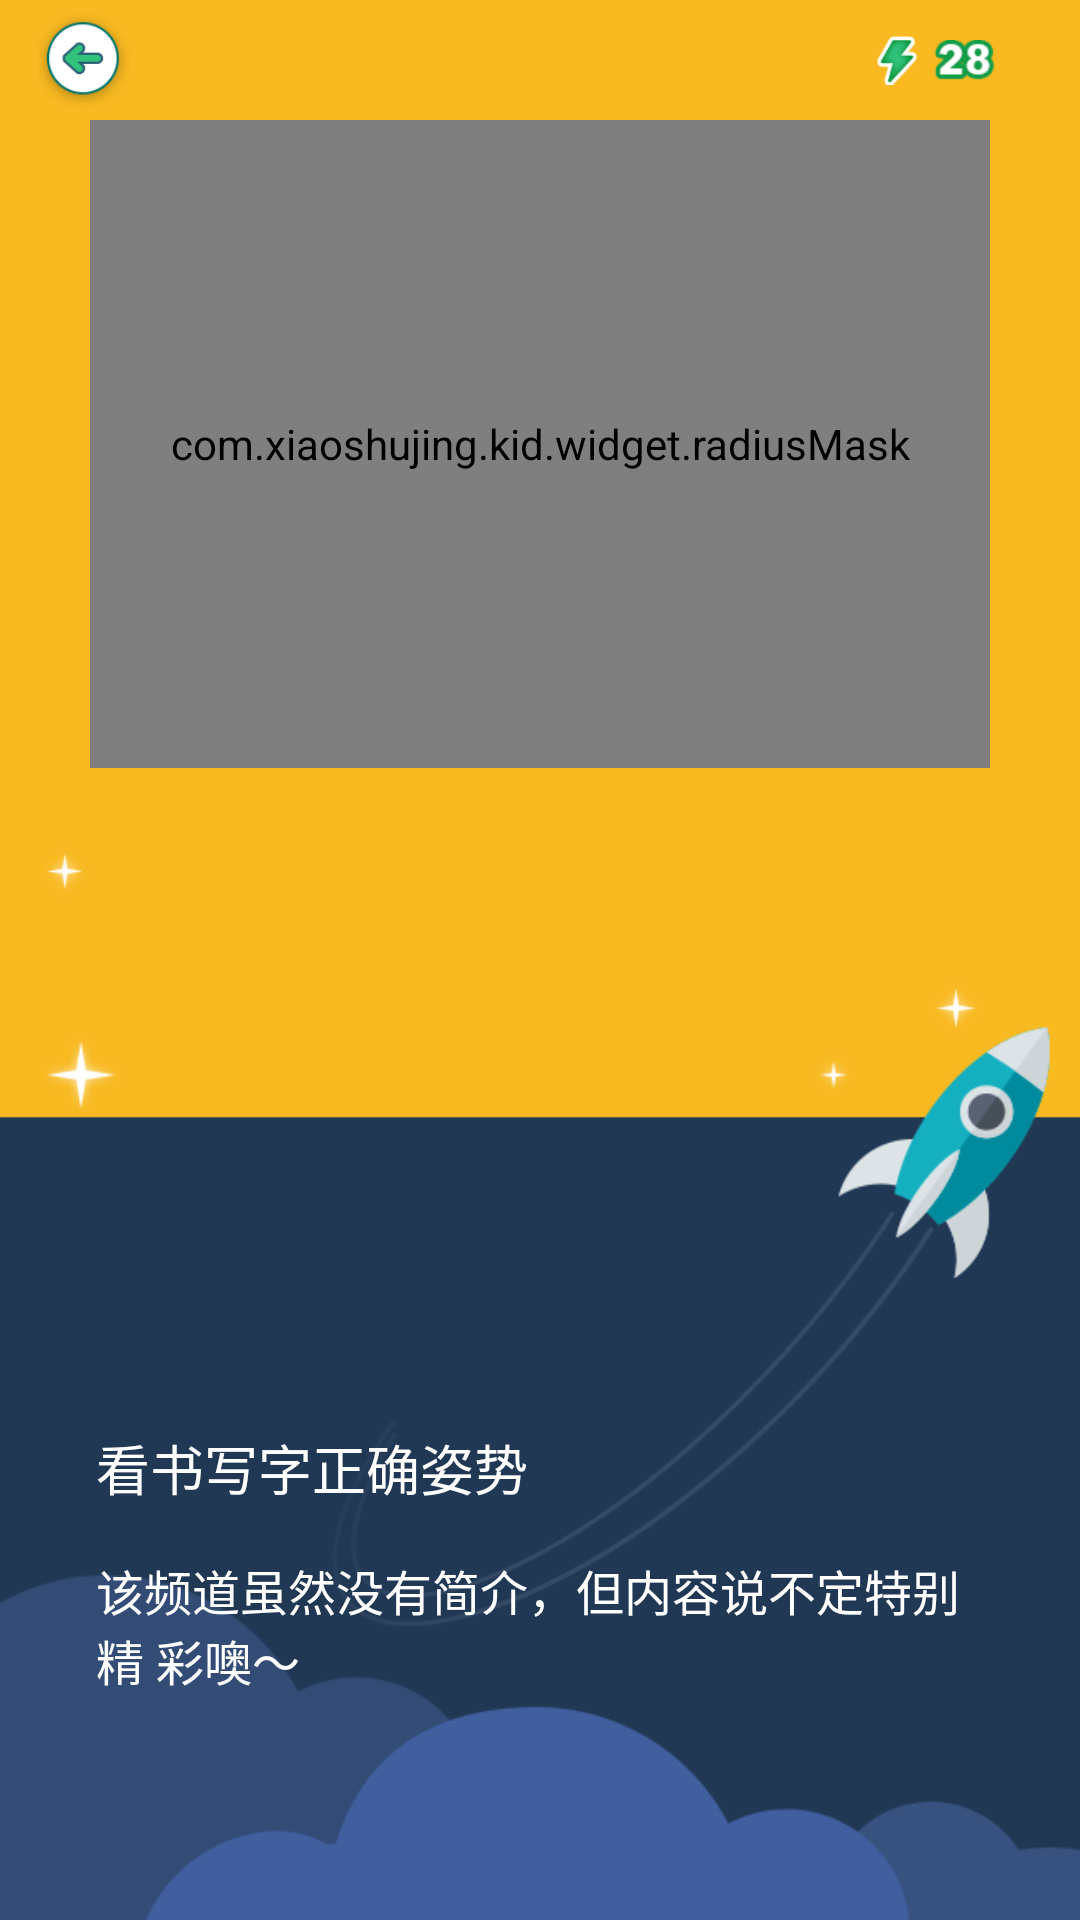

Screen size 1080 × 1920. Icon name, then its center in pixels as point (x, y):
back: point (83, 60)
energy home: point (897, 60)
